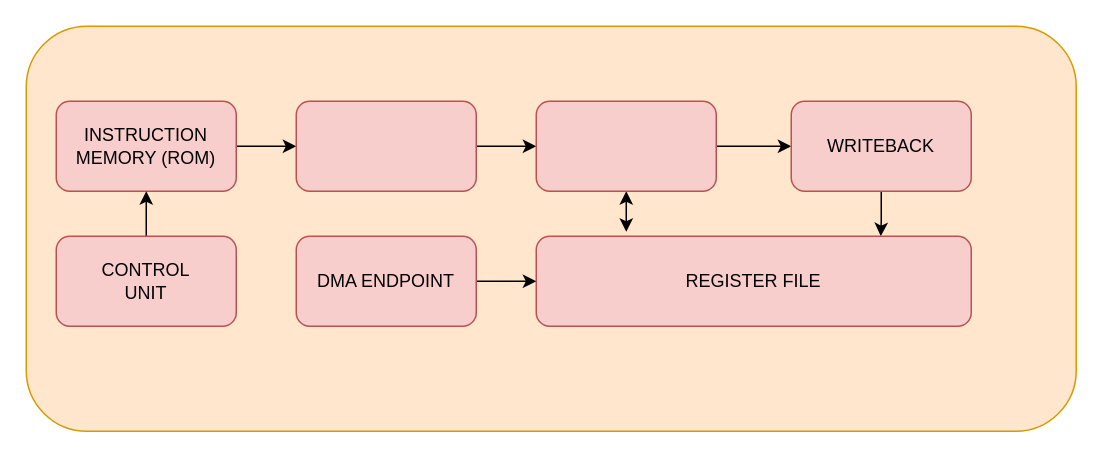
The diagram is 1103 pixels wide and 458 high, and some of its shapes have lost their labels. Each missing label, with the centre of its shape:
"DECODER" belongs at (x=385, y=145).
"EXECUTION UNIT" belongs at (x=625, y=145).
